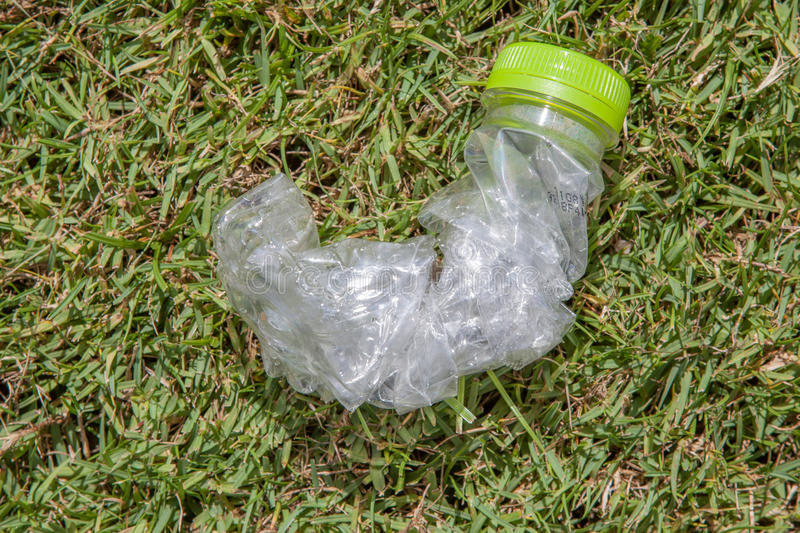plastic_bottle: (208, 34, 638, 424)
